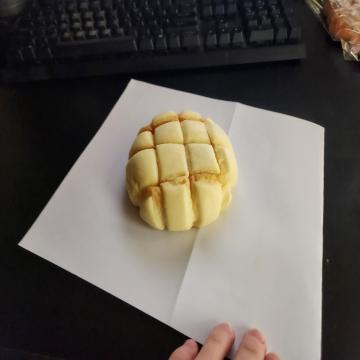melon_bread: (125, 110, 240, 232)
